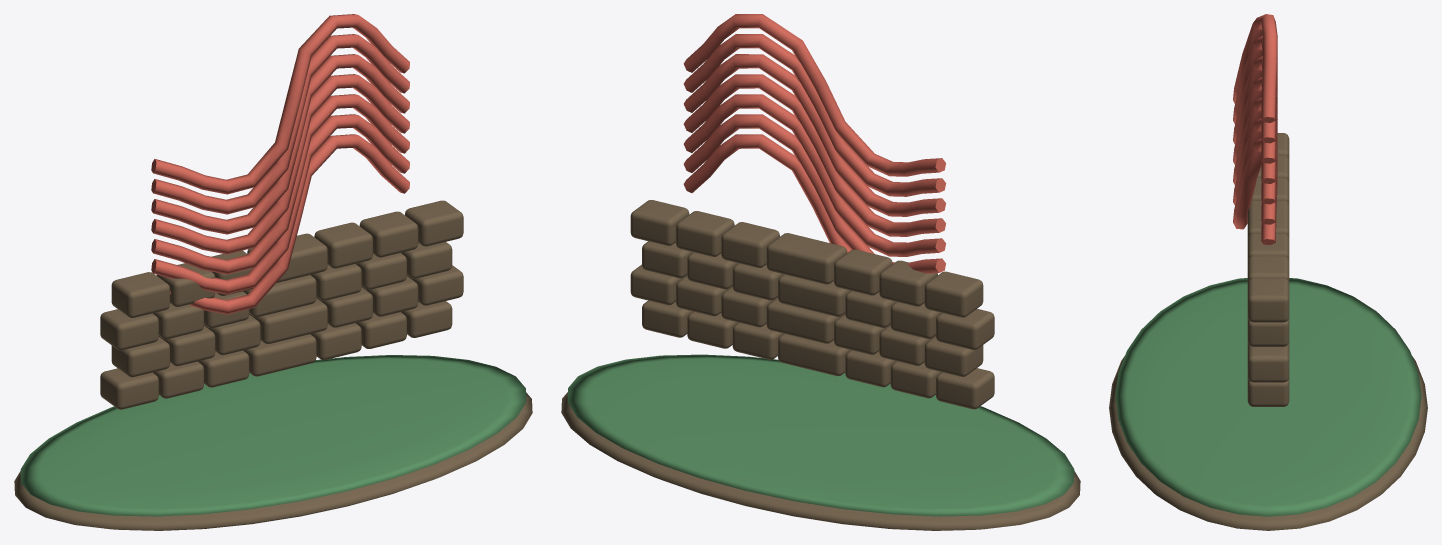
File: long-wall.glb
3 renders of one model, left to right at view 1: azimuth 30°, elevation 25°; view 2: azimuth 150°, elevation 25°; view 3: azimuth 270°, elevation 25°, orthographic.
Visible parts, largest first — view 1: long-wall_surface_01, long-wall_surface_00, long-wall_surface_02; view 2: long-wall_surface_01, long-wall_surface_00, long-wall_surface_02; view 3: long-wall_surface_01, long-wall_surface_00, long-wall_surface_02.
Part boxes in pixels (box(x1,y1,x2,y2)): long-wall_surface_01: box(20, 355, 526, 516); long-wall_surface_00: box(14, 200, 532, 530); long-wall_surface_02: box(151, 14, 409, 314); long-wall_surface_01: box(567, 354, 1074, 516); long-wall_surface_00: box(561, 200, 1080, 530); long-wall_surface_02: box(683, 14, 946, 273); long-wall_surface_01: box(1115, 278, 1421, 516); long-wall_surface_00: box(1109, 133, 1427, 530); long-wall_surface_02: box(1233, 14, 1277, 244).
Bounding box in the file's own units: 4.56 × 3.79 × 2.5.
